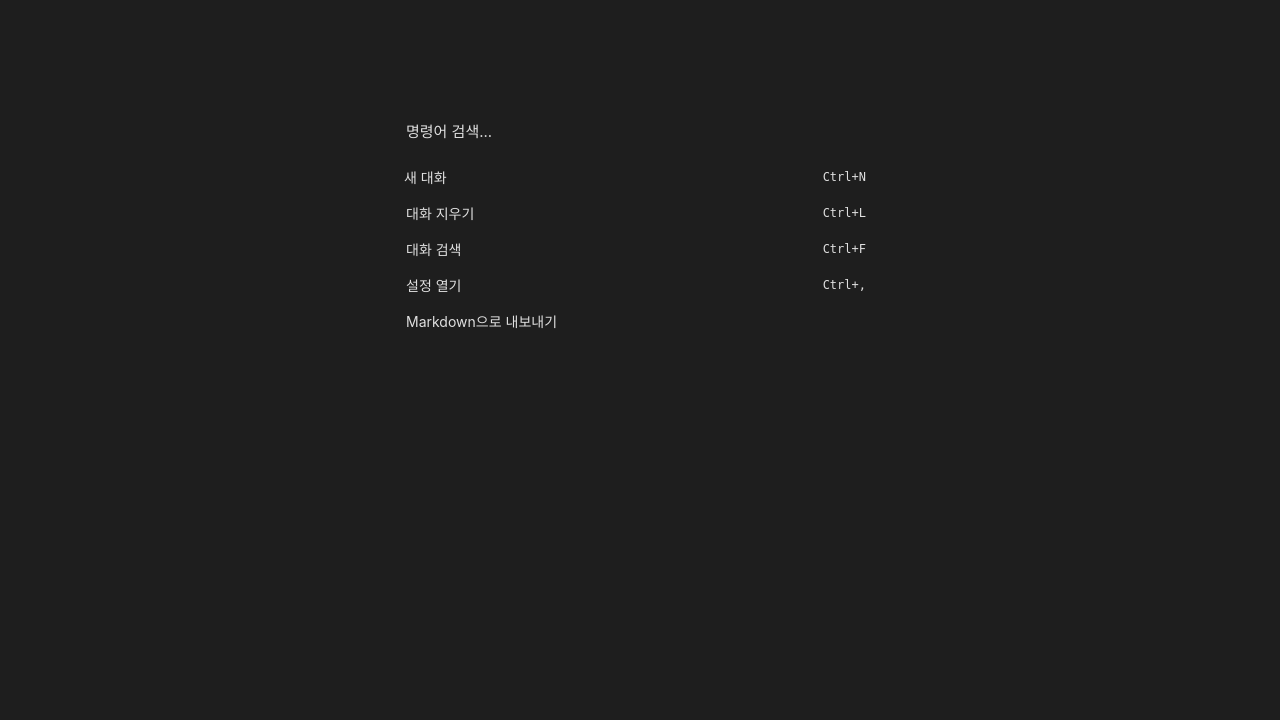
Test case: CommandPalette › shows empty message when no commands match
Type "nonexistent" into the dropdown with placeholder "명령어 검색..." at [640, 132], box [390,108,890,155]
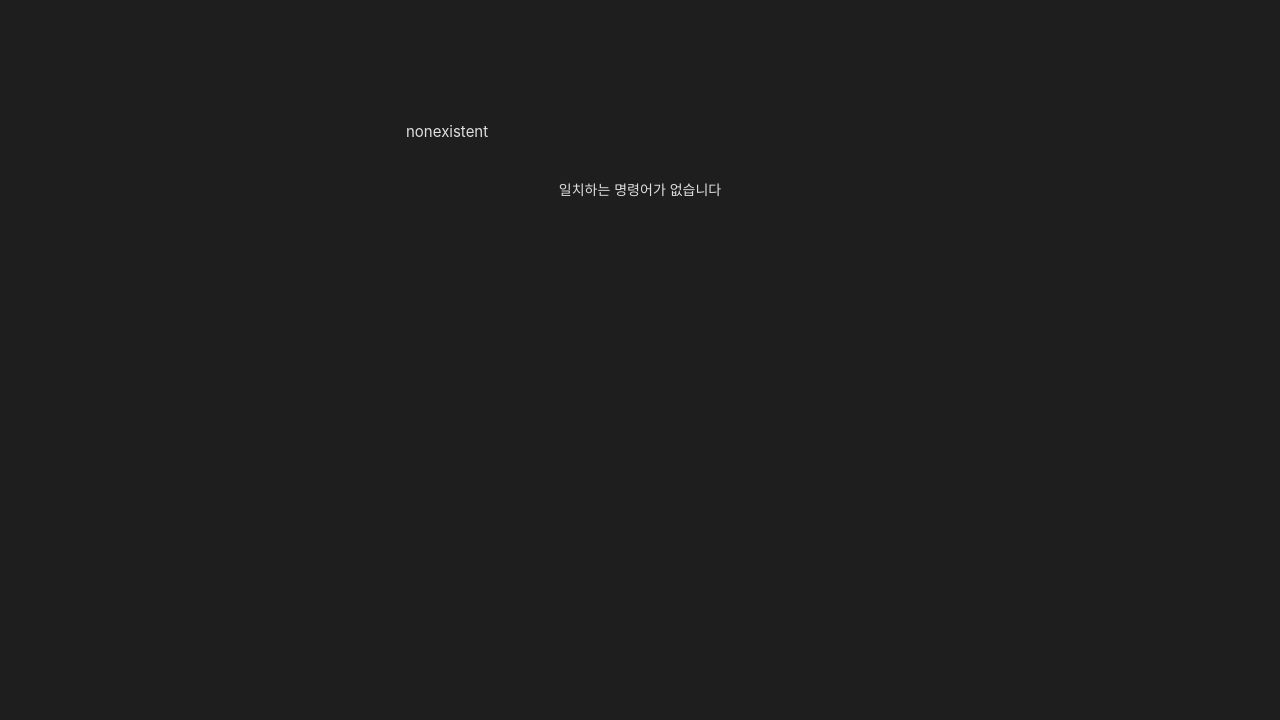
Check: the text "일치하는 명령어가 없습니다" is shown, box [559,181,721,198]
